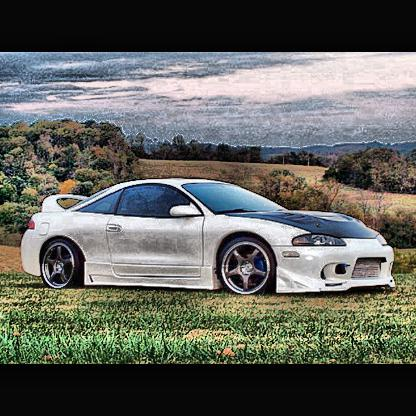Eagle Talon Hatchback 1998: (20, 177, 396, 299)
